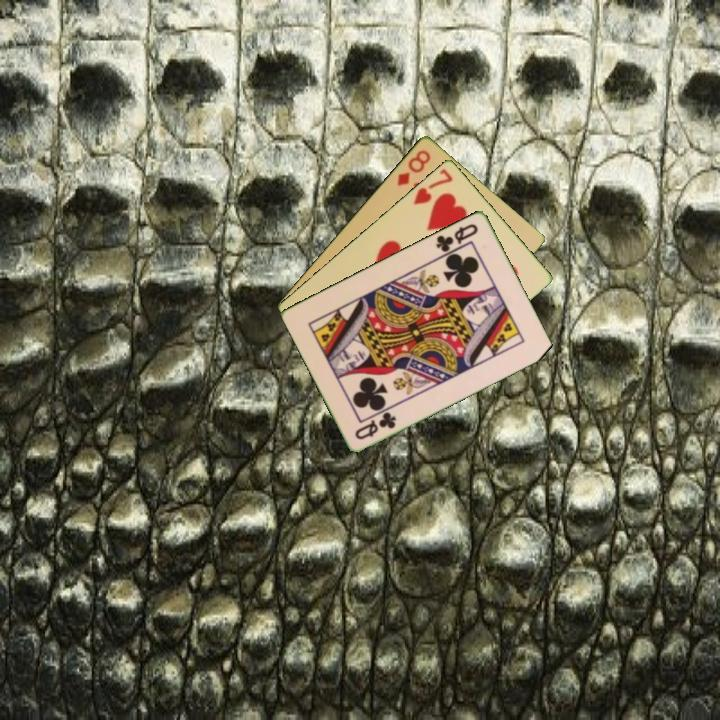7h: (409, 165, 456, 207)
8d: (393, 146, 434, 189)
Qc: (432, 220, 481, 255), (351, 408, 400, 442)
